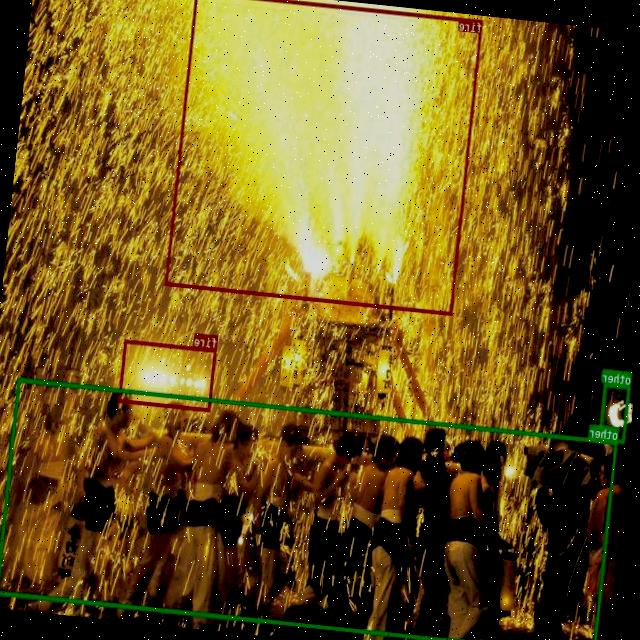fire: (165, 0, 483, 315), (118, 339, 217, 411)
